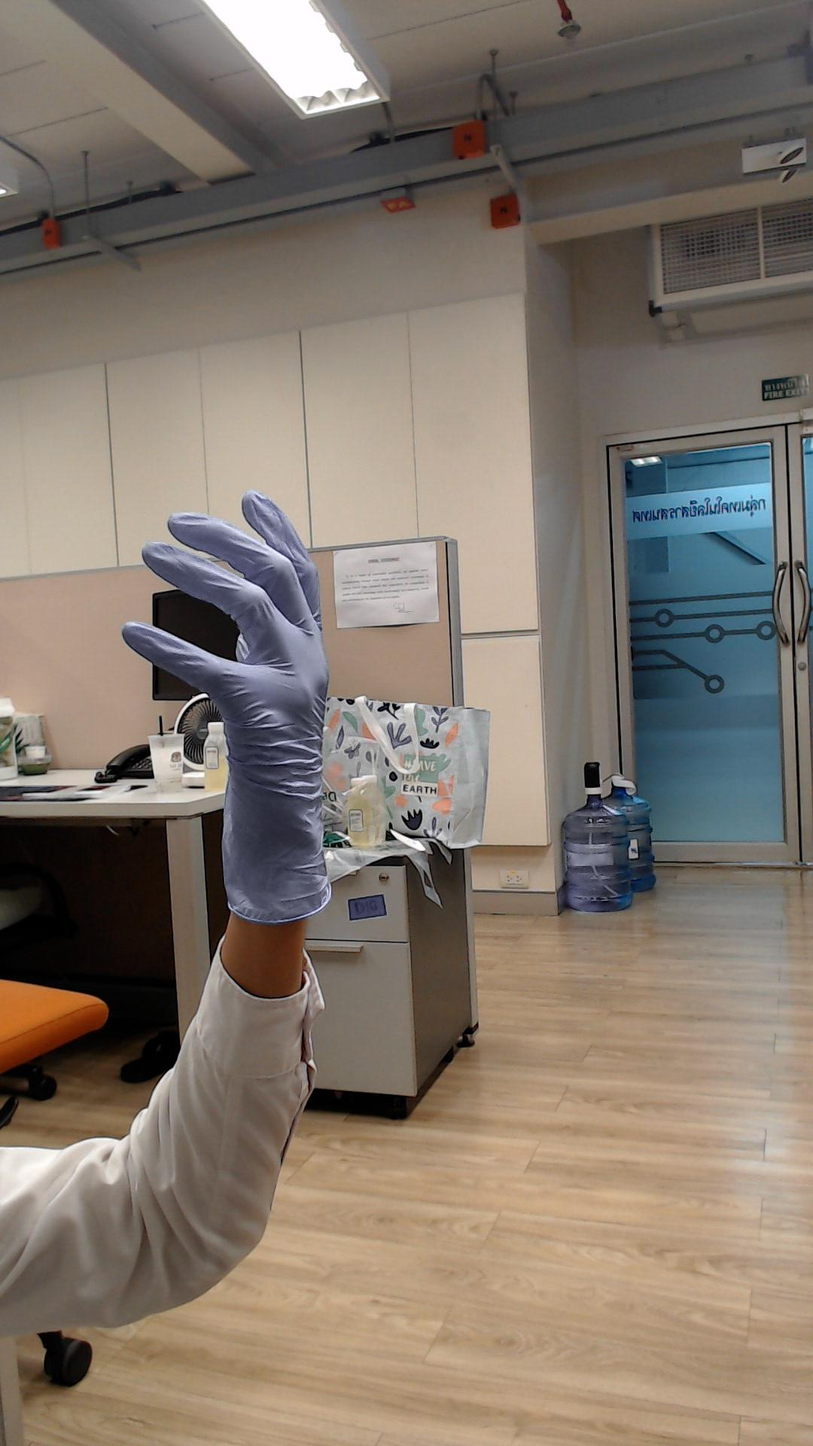gloves: (114, 474, 373, 889)
